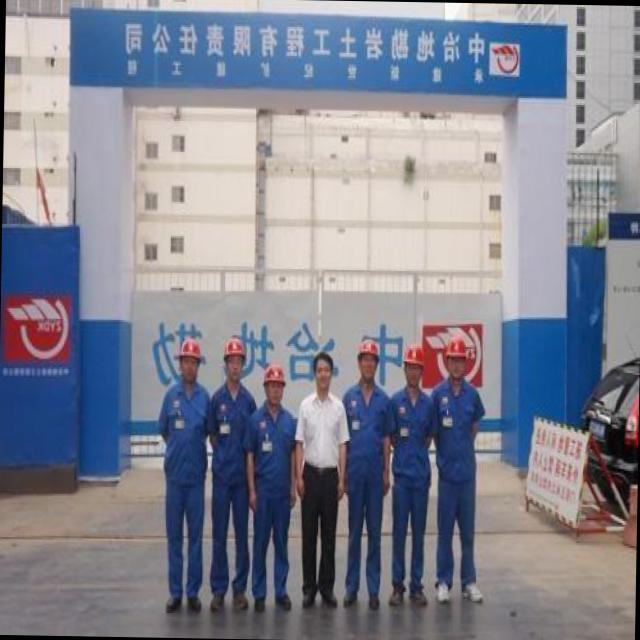helmet: (260, 362, 288, 399), (173, 338, 204, 370), (401, 344, 429, 374), (220, 337, 247, 368), (444, 337, 470, 368), (356, 337, 380, 368)
no-helmet: (308, 349, 336, 378)
no-vest: (166, 382, 211, 482), (436, 376, 476, 482), (248, 408, 294, 499), (343, 387, 388, 480), (210, 382, 251, 482), (388, 394, 435, 476), (298, 392, 343, 469)
